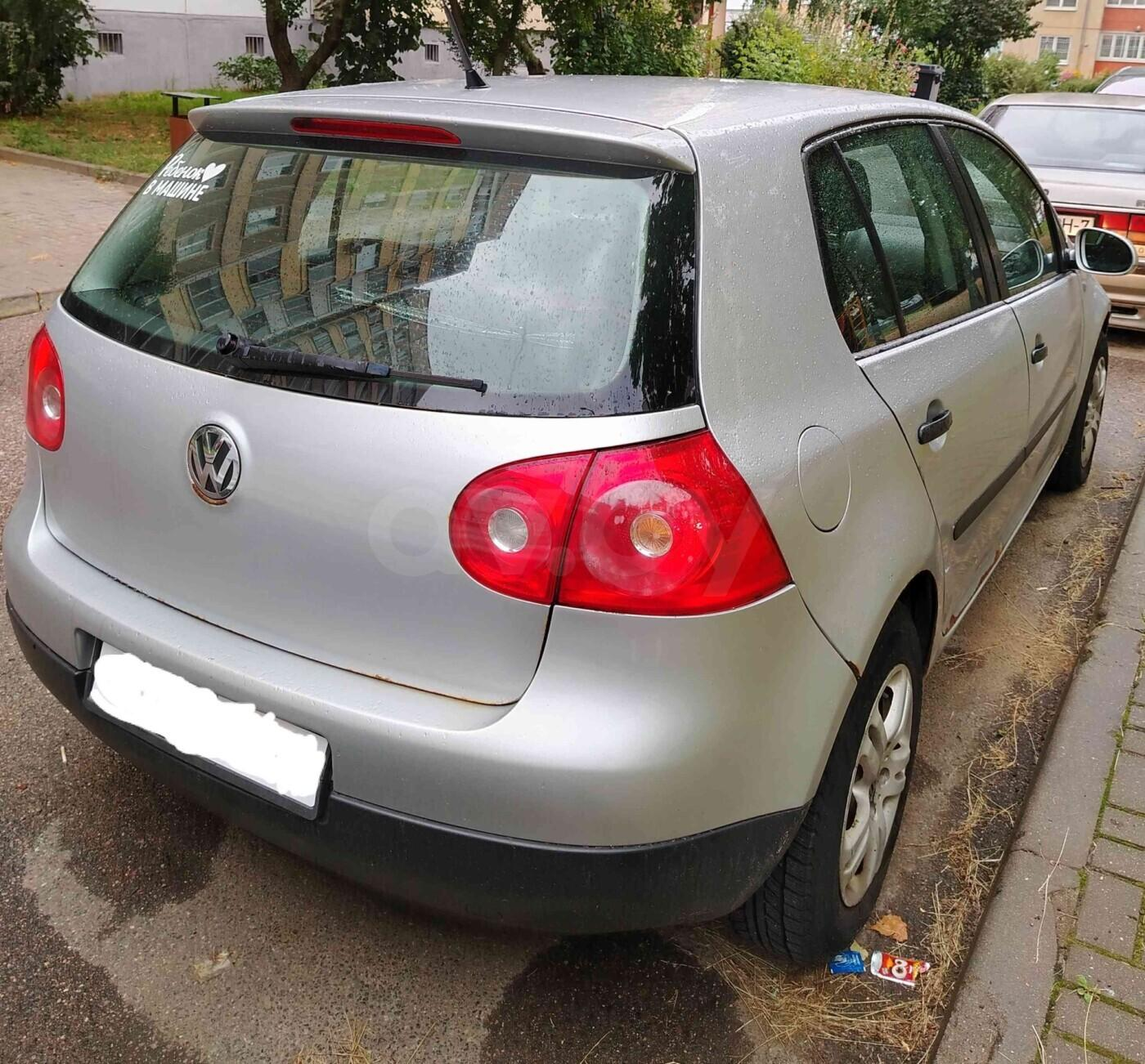Golf_2003-2009: (8, 70, 1122, 952)
